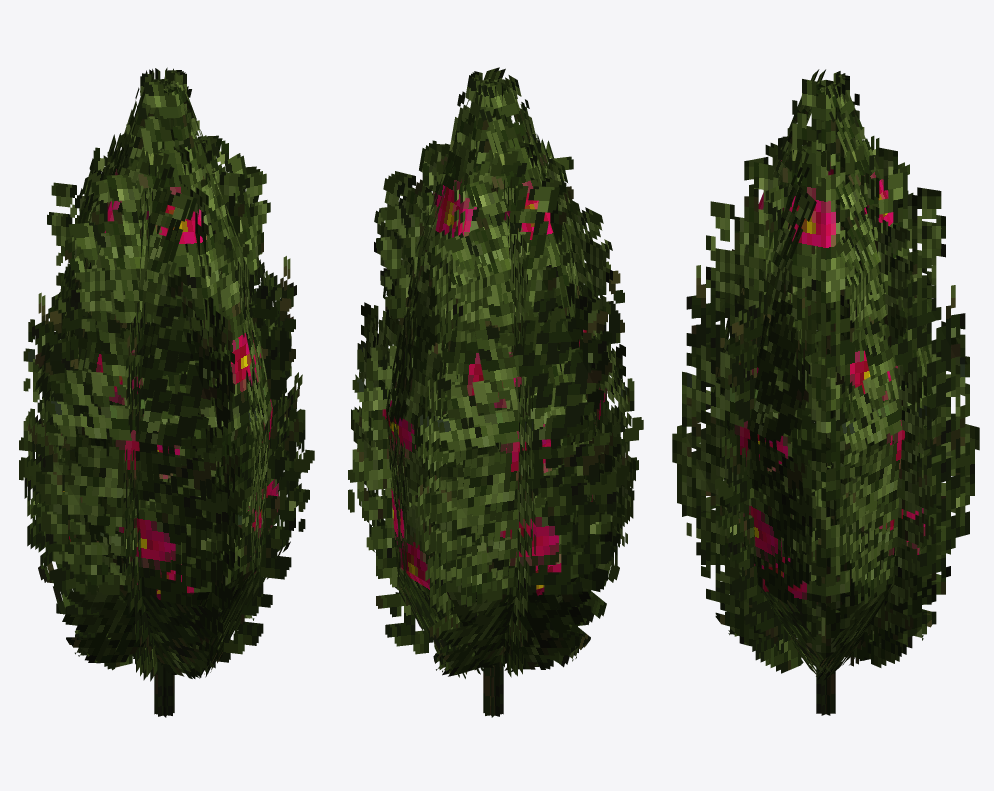
The model's file is bush05_spring2.glb.
3 renders of one model, left to right at view 1: azimuth 30°, elevation 25°; view 2: azimuth 150°, elevation 25°; view 3: azimuth 270°, elevation 25°, orthographic.
Visible parts, largest first — view 1: bush05; view 2: bush05; view 3: bush05.
Boxes of the visible parts, x1=… form: bush05: x1=19, y1=67, x2=314, y2=717; bush05: x1=348, y1=67, x2=643, y2=717; bush05: x1=672, y1=69, x2=979, y2=715.
Bounding box in the file's own units: 0.66 × 1.5 × 0.66.
Materials: 1 (1 with a texture image).
